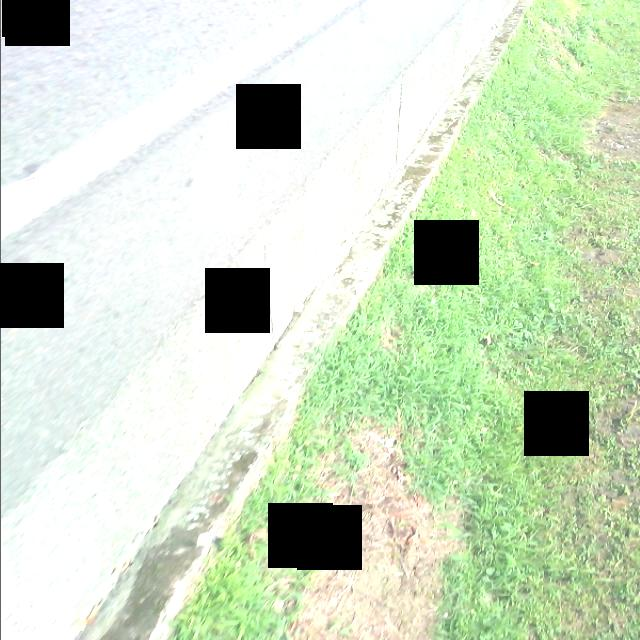DITCH: (2, 1, 532, 638)
